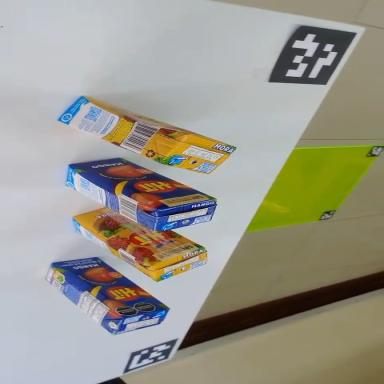HIT-MANGO: (58, 140, 219, 250), (39, 238, 170, 353)
HIT-MORA: (55, 90, 237, 184), (65, 188, 212, 298)
cara_F: (67, 139, 215, 229), (69, 188, 204, 283), (50, 237, 169, 336)
